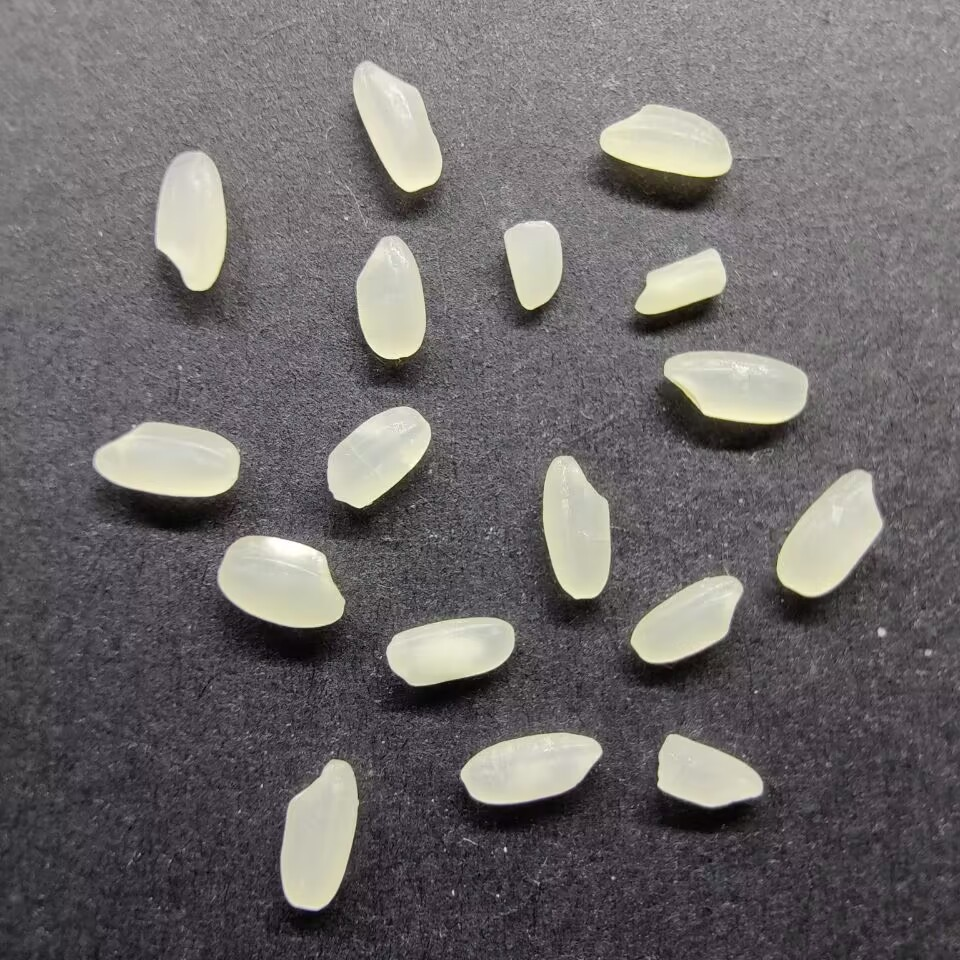broken: (654, 729, 766, 811), (632, 247, 728, 317), (500, 217, 564, 311)
rice: (773, 465, 884, 600), (349, 59, 444, 193), (279, 755, 359, 913), (216, 532, 345, 629), (90, 419, 241, 498), (323, 404, 431, 510), (662, 349, 811, 424), (539, 451, 613, 601), (459, 730, 605, 806), (598, 99, 733, 178), (154, 148, 227, 293), (630, 574, 744, 664), (382, 614, 518, 688), (355, 233, 427, 360)
